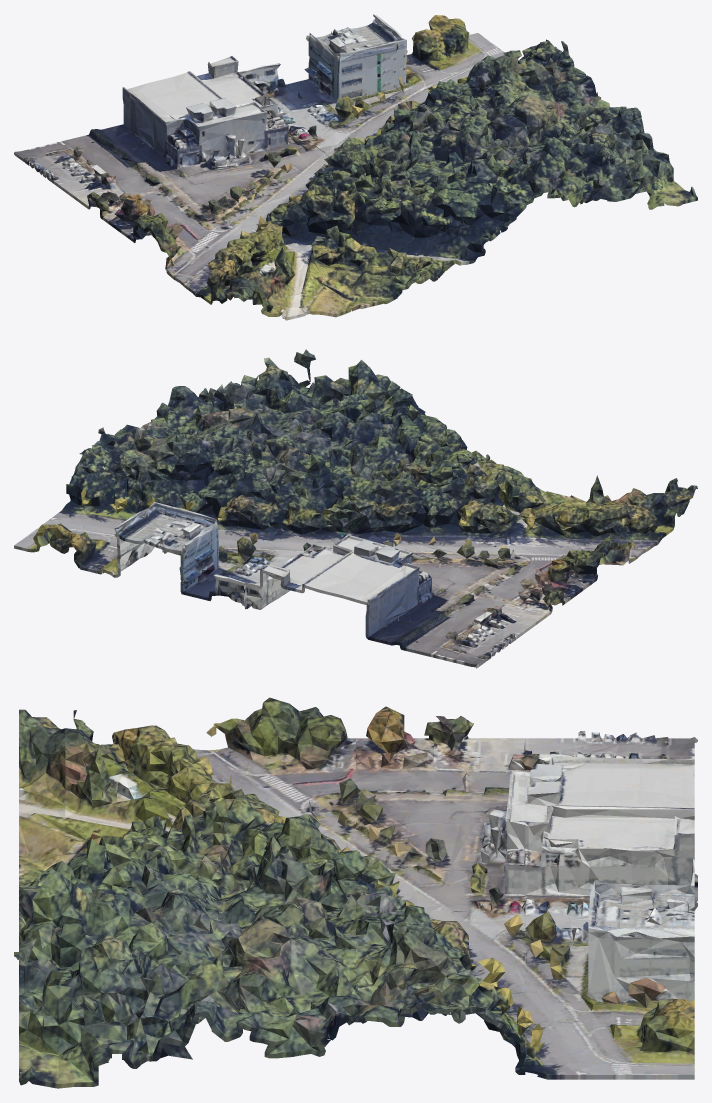
The model's file is Split9.fbx.
The picture shows the model from 3 angles, top to bottom: view 1: azimuth 30°, elevation 25°; view 2: azimuth 150°, elevation 25°; view 3: azimuth 270°, elevation 25°; orthographic projection. The views are drawn at different scales.
Visible parts, largest first — view 1: BuildingMesh-00105; view 2: BuildingMesh-00105; view 3: BuildingMesh-00105.
Part boxes in pixels (left/top/right/bottom): BuildingMesh-00105: left=14, top=14, right=697, bottom=320; BuildingMesh-00105: left=14, top=349, right=697, bottom=668; BuildingMesh-00105: left=14, top=697, right=697, bottom=1088.
Size of the model in its own units: 196 by 41.18 by 162.
Materials: 7 (7 with a texture image).
